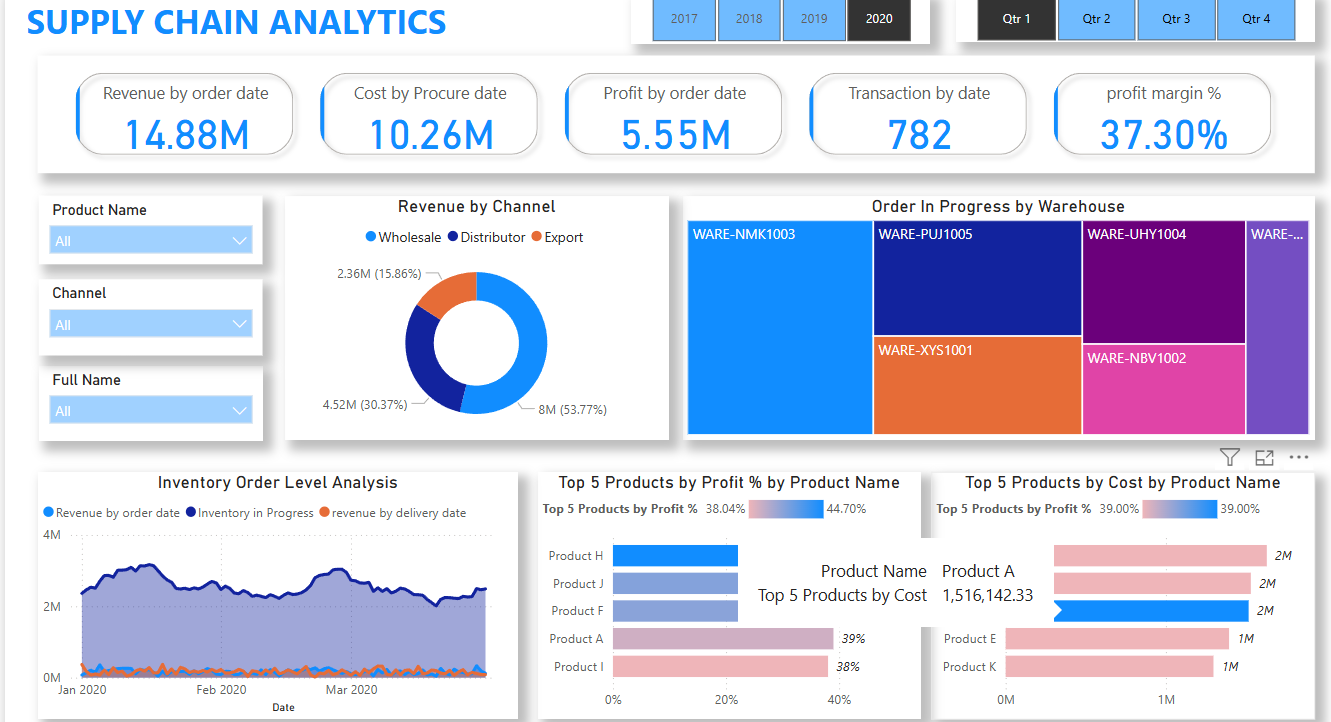

The page's visual inventory and layout, read from the dashboard file:
{"tool":"powerbi","page":{"name":"Supply Chain ","canvas":[1280,720],"ordinal":0},"visuals":[{"type":"areaChart","title":"Inventory Order Level Analysis","fields":{"Category":["dates.Date"],"Y":["Specific Calculation.Revenue by order date","Specific Calculation.Inventory in Progress","Specific Calculation.revenue by delivery date"]},"box":[31.2,462.5,463.8,238.8],"z":0},{"type":"slicer","fields":{"Values":["dates.Date.Variation.Date Hierarchy.Year"]},"box":[605,0,288.8,48.8],"z":1000},{"type":"slicer","fields":{"Values":["dates.Date.Variation.Date Hierarchy.Quarter"]},"box":[917.5,0,346.2,47.5],"z":2000},{"type":"slicer","fields":{"Values":["Warehouse.Full Name"]},"box":[32.5,360,216.2,72.5],"z":3000},{"type":"slicer","fields":{"Values":["Products.Product Name"]},"box":[32.5,195,216.2,66.2],"z":4000},{"type":"slicer","fields":{"Values":["Sales.Channel"]},"box":[32.5,276.2,216.2,73.8],"z":5000},{"type":"textbox","box":[16.2,0,511.2,60],"z":6000},{"type":"cardVisual","fields":{"Data":["Specific Calculation.Revenue by order date","Specific Calculation.Cost by Procure date","Specific Calculation.Profit by order date","Specific Calculation.Transation by order date","Specific Calculation.profit margin %"]},"box":[31.2,60,1232.5,113.8],"z":7000},{"type":"clusteredBarChart","fields":{"Y":["Specific Calculation.Top 5 Products by Profit %"],"Category":["Products.Product Name"]},"box":[513.8,462.5,370,238.8],"z":8000},{"type":"clusteredBarChart","fields":{"Y":["Specific Calculation.Top 5 Products by Cost"],"Category":["Products.Product Name"]},"box":[893.8,462.5,370,238.8],"z":9000},{"type":"treemap","title":"Order In Progress by Warehouse","fields":{"Values":["Specific Calculation.Order In Progress"],"Group":["Warehouse.Warehouse Code"]},"box":[653.8,195,610,236.2],"z":10000},{"type":"donutChart","title":"Revenue by Channel","fields":{"Y":["Specific Calculation.Revenue by order date"],"Category":["Sales.Channel"]},"box":[270,195,370,236.2],"z":11000}]}

Visuals, with their boxes on the page's 1280x720 design canvas (x1, y1, x2, y2). These are canvas units, not pixel positions in the 1331x722 screenshot, which may show the page scaled, cropped or inside an application window:
"Inventory Order Level Analysis" areaChart: (x1=31, y1=462, x2=495, y2=701)
slicer - dates.Date.Variation.Date Hierarchy.Year: (x1=605, y1=0, x2=894, y2=49)
slicer - dates.Date.Variation.Date Hierarchy.Quarter: (x1=918, y1=0, x2=1264, y2=48)
slicer - Warehouse.Full Name: (x1=32, y1=360, x2=249, y2=432)
slicer - Products.Product Name: (x1=32, y1=195, x2=249, y2=261)
slicer - Sales.Channel: (x1=32, y1=276, x2=249, y2=350)
textbox: (x1=16, y1=0, x2=527, y2=60)
cardVisual - Specific Calculation.Revenue by order date x Specific Calculation.Cost by Procure date: (x1=31, y1=60, x2=1264, y2=174)
clusteredBarChart - Specific Calculation.Top 5 Products by Profit % x Products.Product Name: (x1=514, y1=462, x2=884, y2=701)
clusteredBarChart - Specific Calculation.Top 5 Products by Cost x Products.Product Name: (x1=894, y1=462, x2=1264, y2=701)
"Order In Progress by Warehouse" treemap: (x1=654, y1=195, x2=1264, y2=431)
"Revenue by Channel" donutChart: (x1=270, y1=195, x2=640, y2=431)
